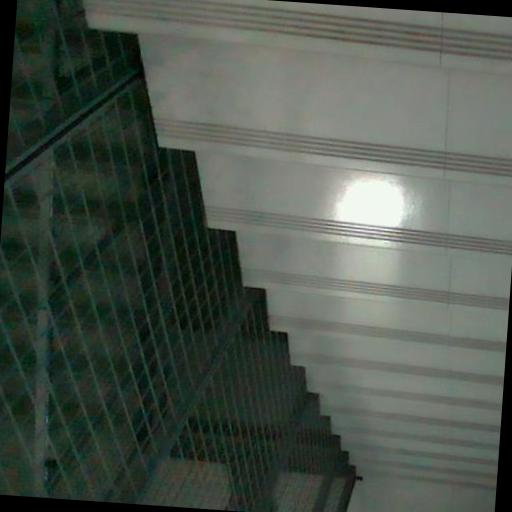stairs: (83, 0, 511, 487)
